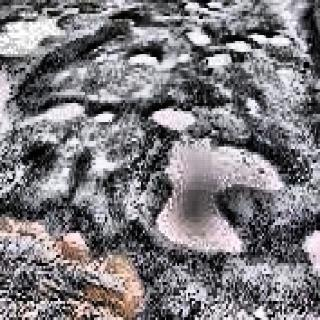pothole: (147, 110, 299, 266), (5, 214, 143, 300), (0, 0, 105, 57), (23, 87, 128, 138), (200, 38, 248, 82), (251, 16, 298, 57), (132, 40, 169, 78), (114, 5, 158, 35), (177, 0, 230, 18), (179, 26, 220, 45)
